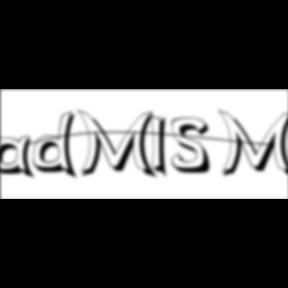I: (150, 110, 174, 182)
M: (77, 108, 161, 181)
S: (171, 117, 217, 176)
a: (1, 135, 40, 182)
d: (33, 110, 83, 182)
